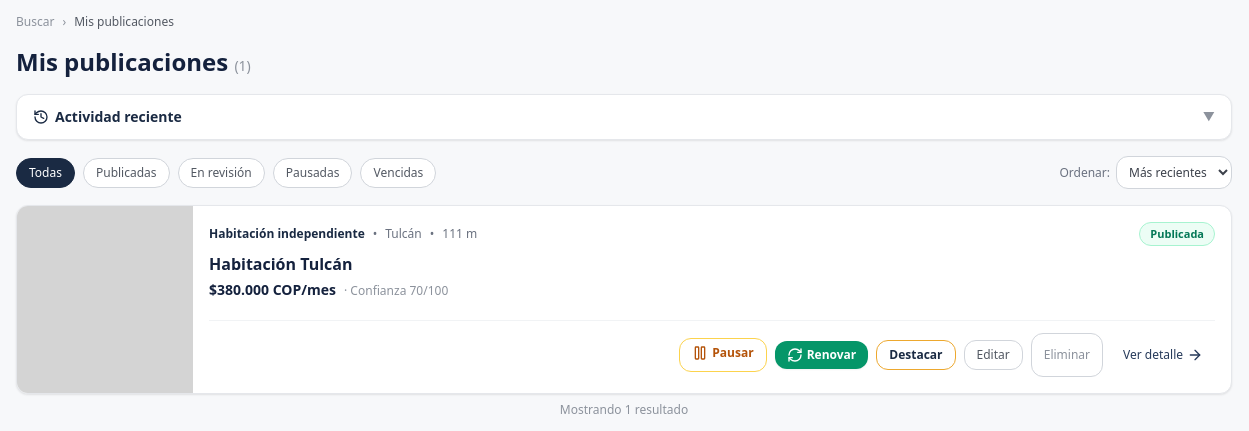
it: MisPublicaciones v15.2 (switch estado + vistas) › pausar exige confirmación en 2 pasos; reanudar es directo
Expected: the heading "Habitación Tulcán" is shown, [209,253,352,275]
Note: Primer clic solo arma la confirmación (sin PATCH).
Click the button with aria-label "Pausar Habitación Tulcán": [723, 355] box [679,338,767,372]
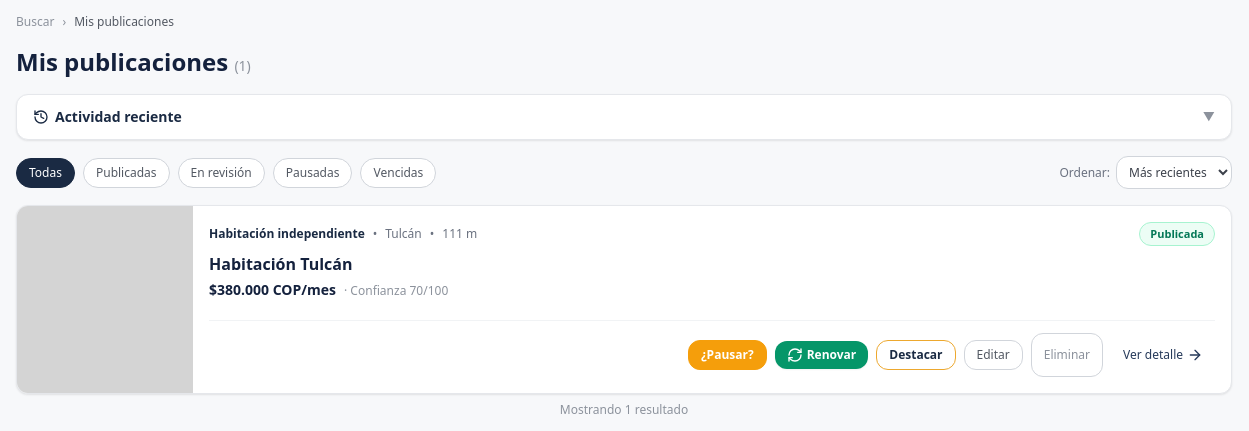
Expected: the button with aria-label "Confirmar pausa" is shown
Click the button with aria-label "Confirmar pausa": [727, 355] box [688,340,767,370]
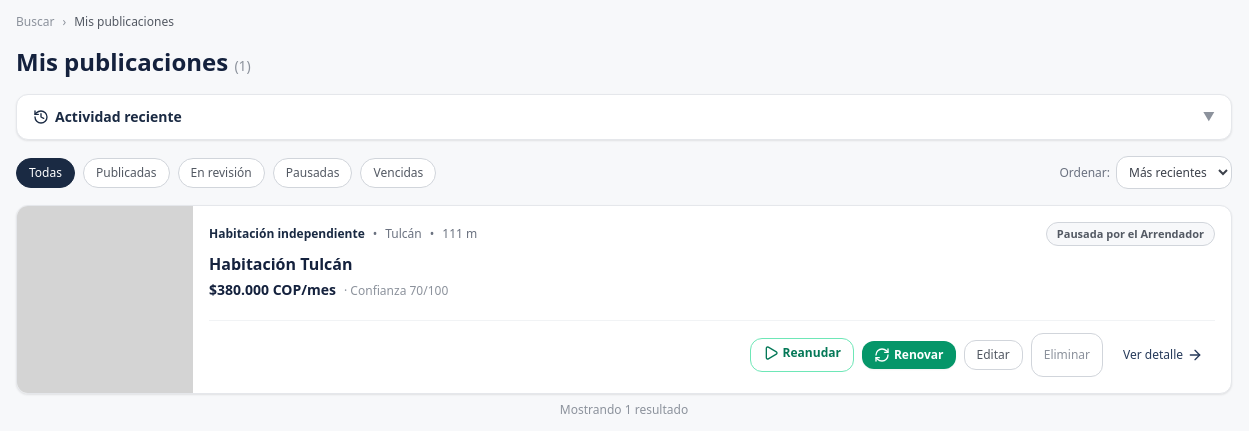
Expected: the button with aria-label "Reanudar Habitación Tulcán" is shown, [750,338,854,372]
